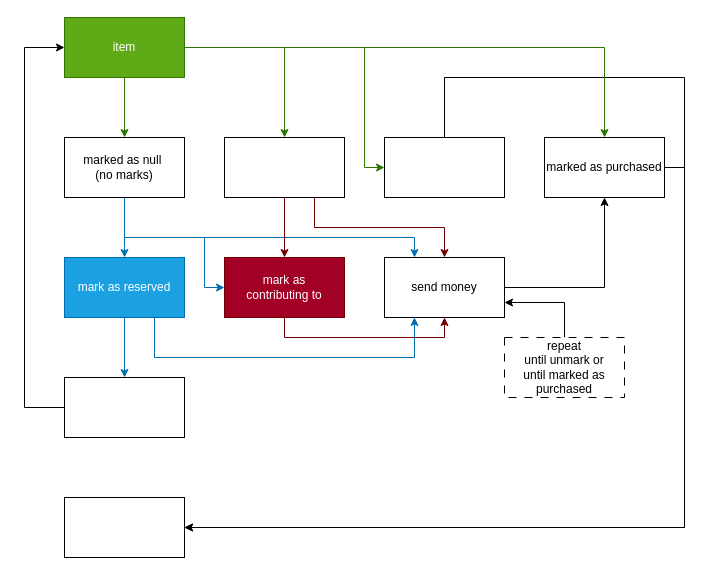
This 710x575 diagram has some shape labels left out. Here are the shapes that lost their labels. From the top down, the box of each, then its label:
(224, 136, 344, 198): marked as contributed
(384, 136, 504, 198): marked as reserved
(64, 376, 184, 438): unmark
(64, 496, 184, 558): end
